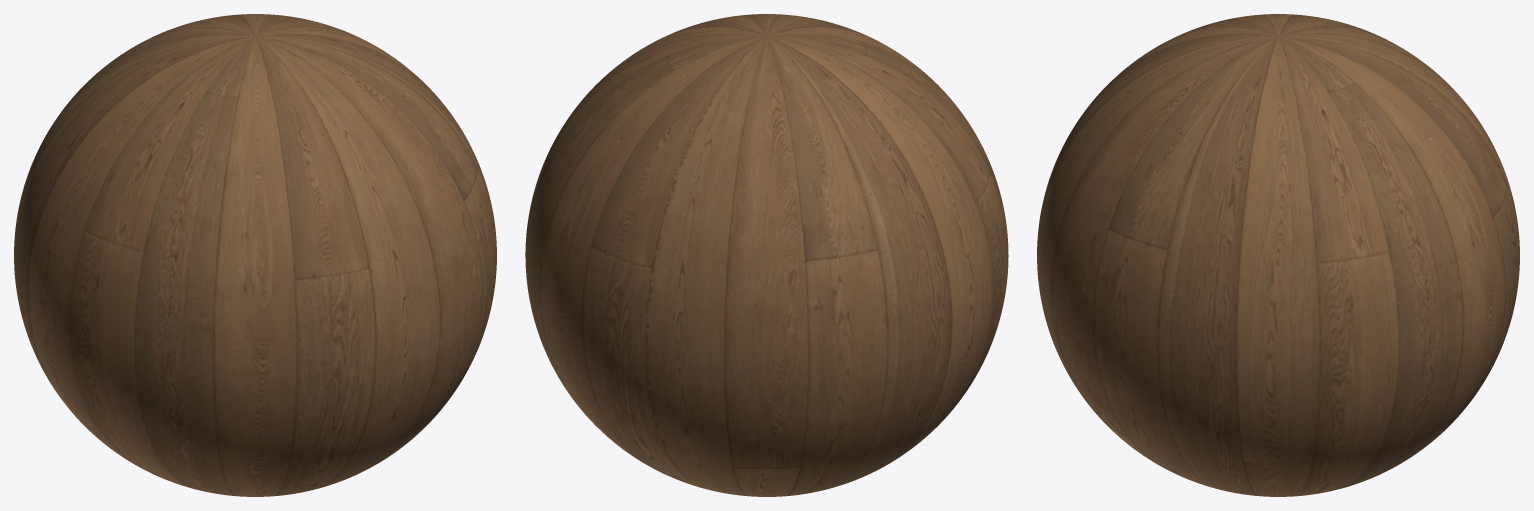
Rendered from wood_floor.glb.
3 views of the same model, side by side, from view 1: azimuth 30°, elevation 25°; view 2: azimuth 150°, elevation 25°; view 3: azimuth 270°, elevation 25° (orthographic).
Visible parts, largest first — view 1: sphere_gltf; view 2: sphere_gltf; view 3: sphere_gltf.
Boxes of the visible parts, x1,y1,x2,y2 form: sphere_gltf: (14, 14, 496, 496); sphere_gltf: (525, 14, 1008, 496); sphere_gltf: (1037, 14, 1519, 496).
Size of the model in its own units: 1.7 by 1.7 by 1.7.
1 material, 1 textured.
